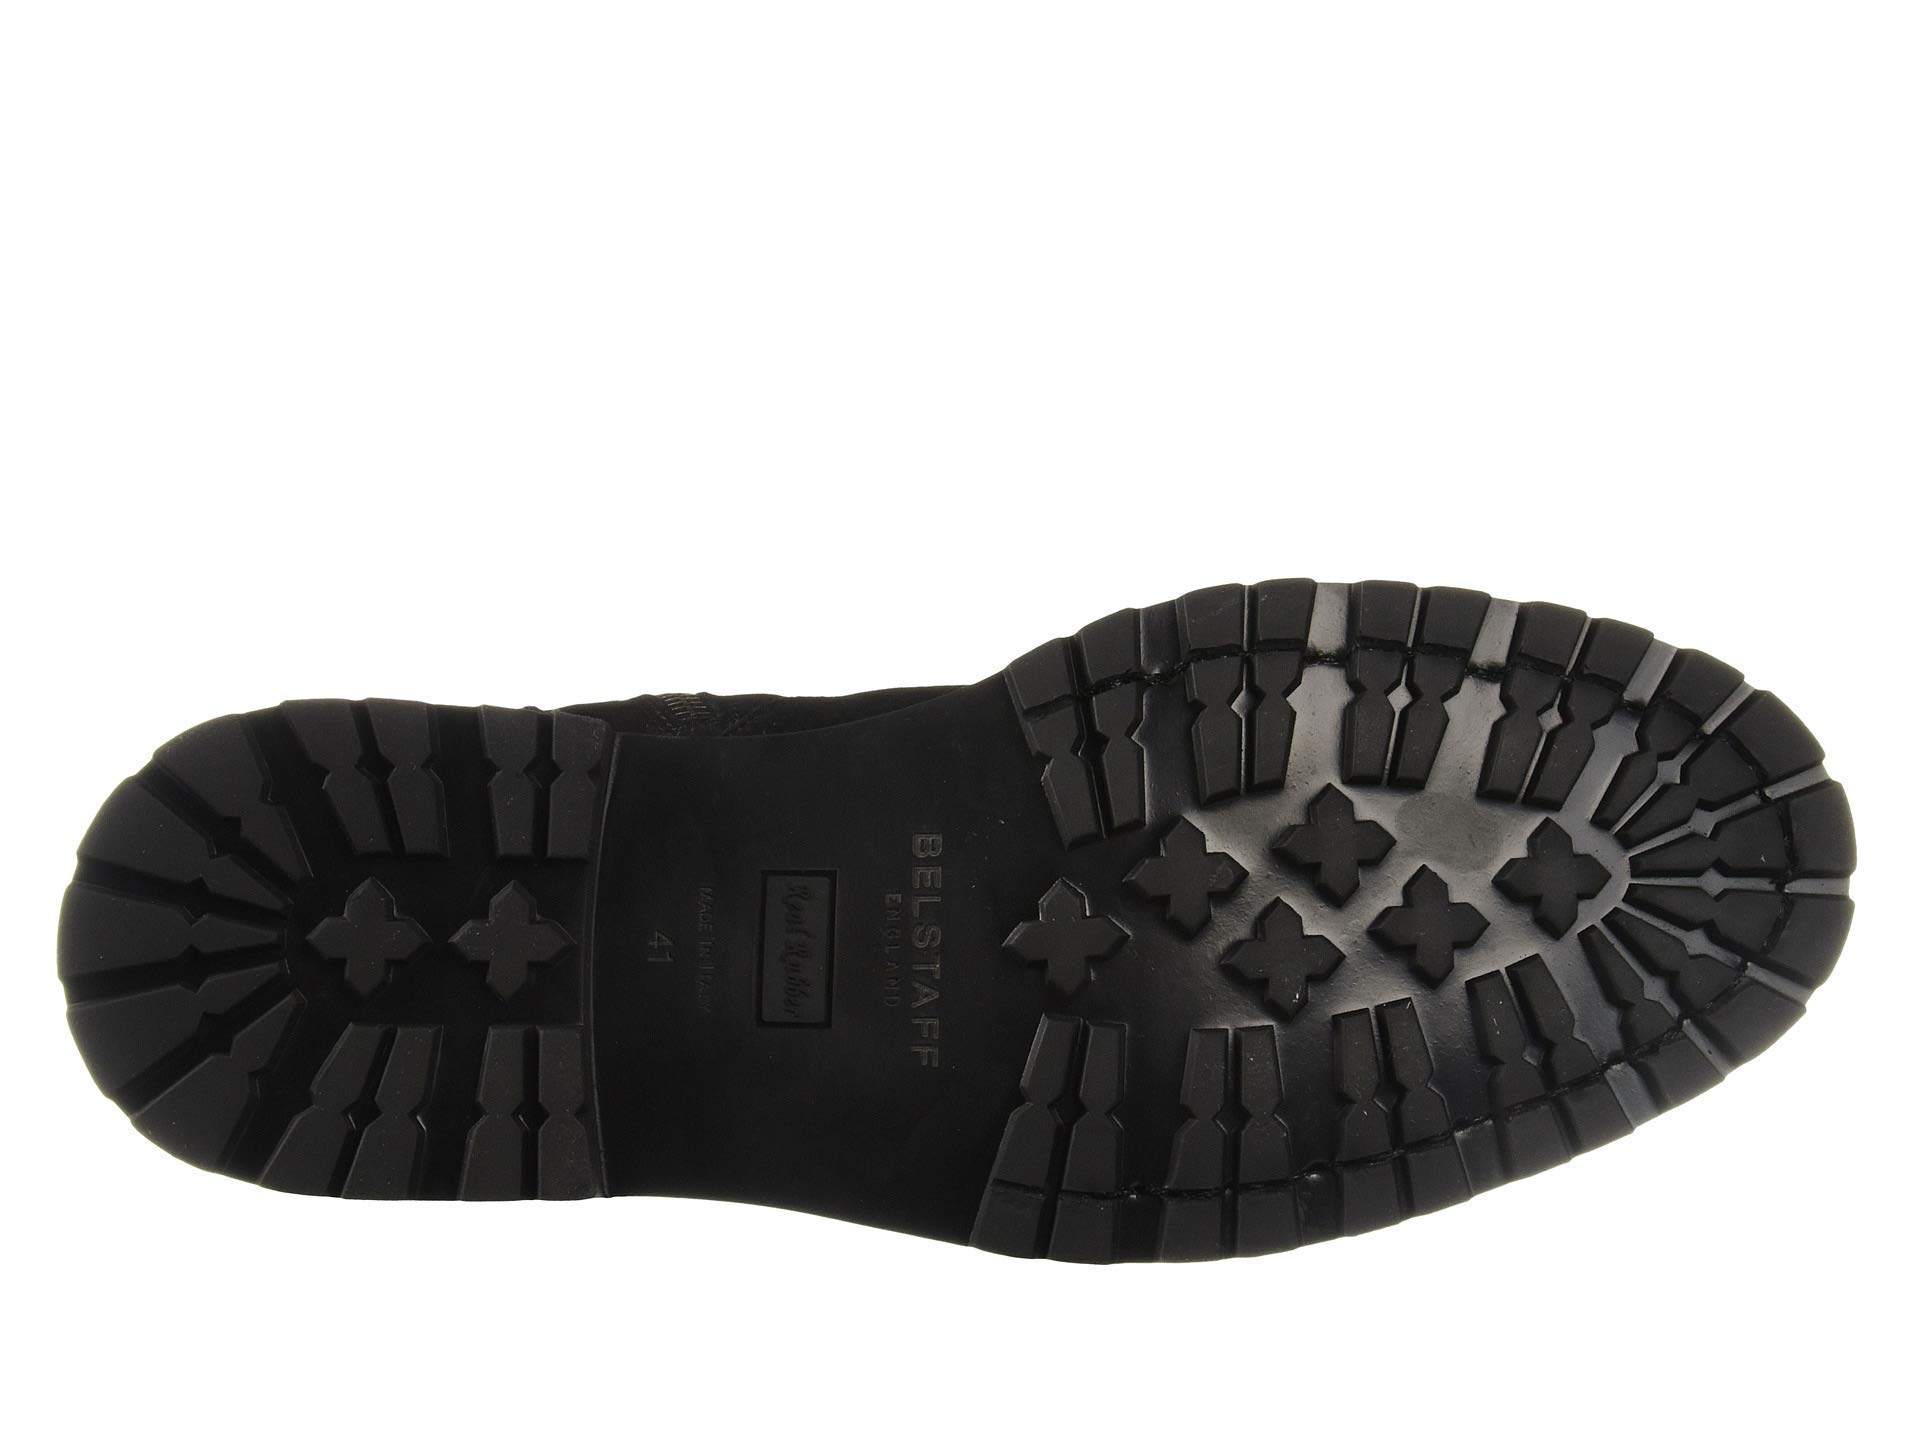polygon: (1170, 656, 1312, 805)
quad: (644, 809, 962, 1103), (1342, 579, 1492, 664)
star: (1147, 809, 1503, 1018), (307, 864, 581, 1018)
text: (644, 809, 962, 1103)
